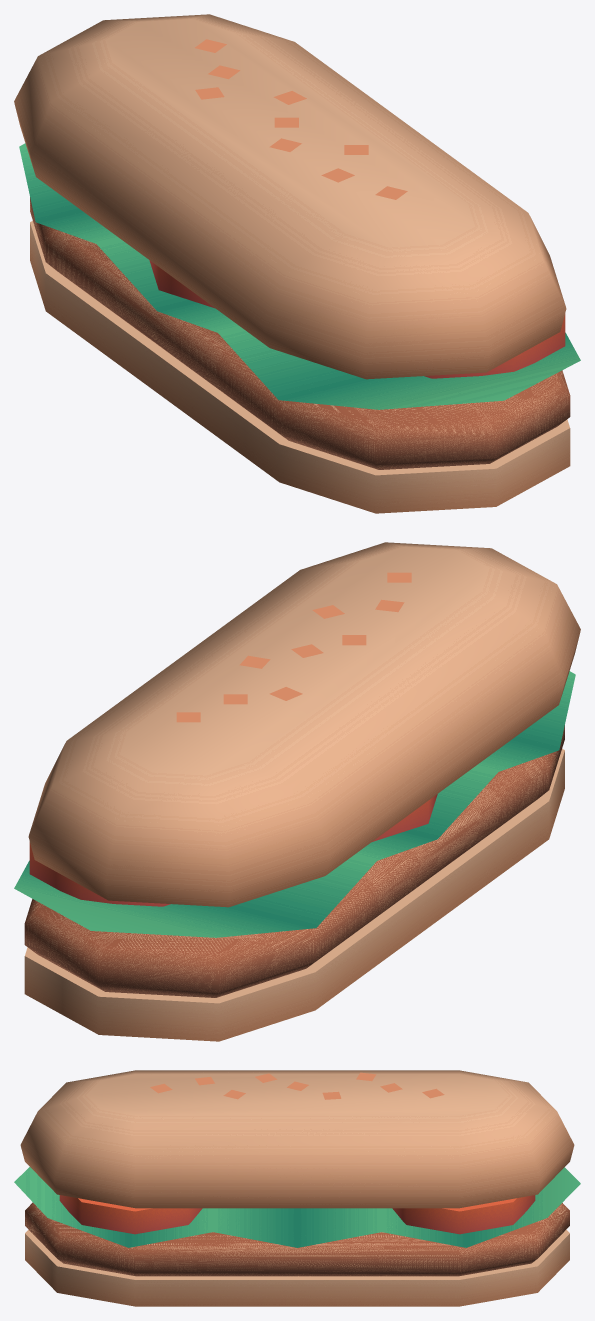
3 renders of one model, top to bottom at view 1: azimuth 30°, elevation 25°; view 2: azimuth 150°, elevation 25°; view 3: azimuth 270°, elevation 25°, orthographic. The views are drawn at different scales.
Visible parts, largest first — view 1: bun-top, meat, bun-bottom, lettuce, tomato (×2); view 2: bun-top, meat, bun-bottom, lettuce, tomato (×2); view 3: bun-top, meat, bun-bottom, lettuce, tomato (×2).
Boxes of the visible parts, bbox=[...] form: bun-top: bbox=[14, 14, 566, 379]; meat: bbox=[30, 197, 570, 469]; bun-bottom: bbox=[30, 221, 570, 513]; lettuce: bbox=[19, 143, 580, 409]; tomato (×2): bbox=[149, 260, 565, 378]; bun-top: bbox=[28, 542, 580, 907]; meat: bbox=[24, 725, 564, 997]; bun-bottom: bbox=[24, 749, 564, 1041]; lettuce: bbox=[14, 671, 575, 937]; tomato (×2): bbox=[29, 794, 437, 906]; bun-top: bbox=[20, 1070, 574, 1208]; meat: bbox=[25, 1202, 569, 1276]; bun-bottom: bbox=[25, 1229, 569, 1306]; lettuce: bbox=[14, 1167, 580, 1247]; tomato (×2): bbox=[59, 1195, 535, 1234].
Size of the model in its own units: 0.2827 by 0.2225 by 0.6756.
Materials: 1 (1 with a texture image).
